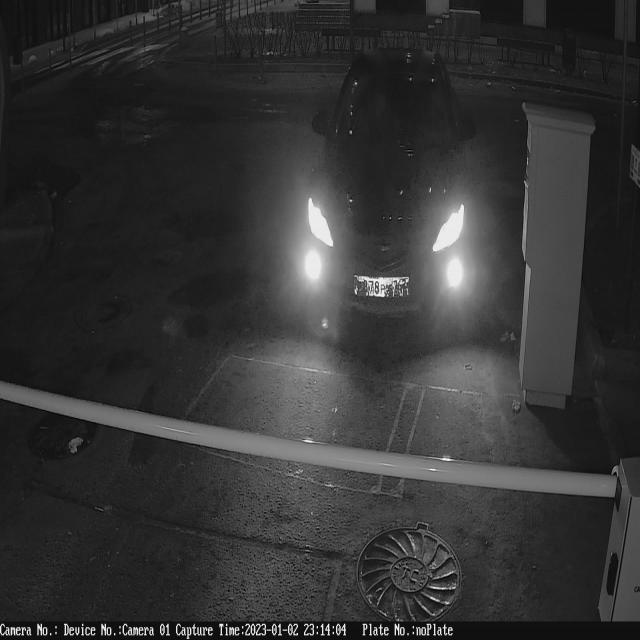car-plate-numbers: (351, 271, 413, 306)
